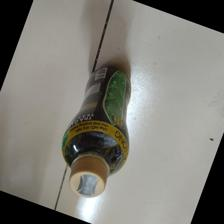Olong: (61, 64, 137, 199)
